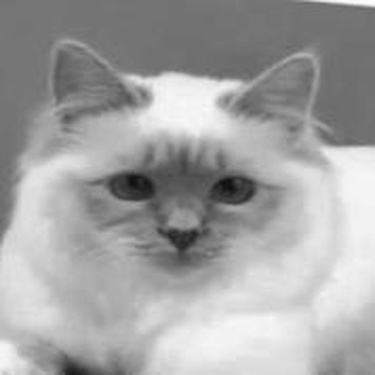cat: (7, 34, 369, 371)
